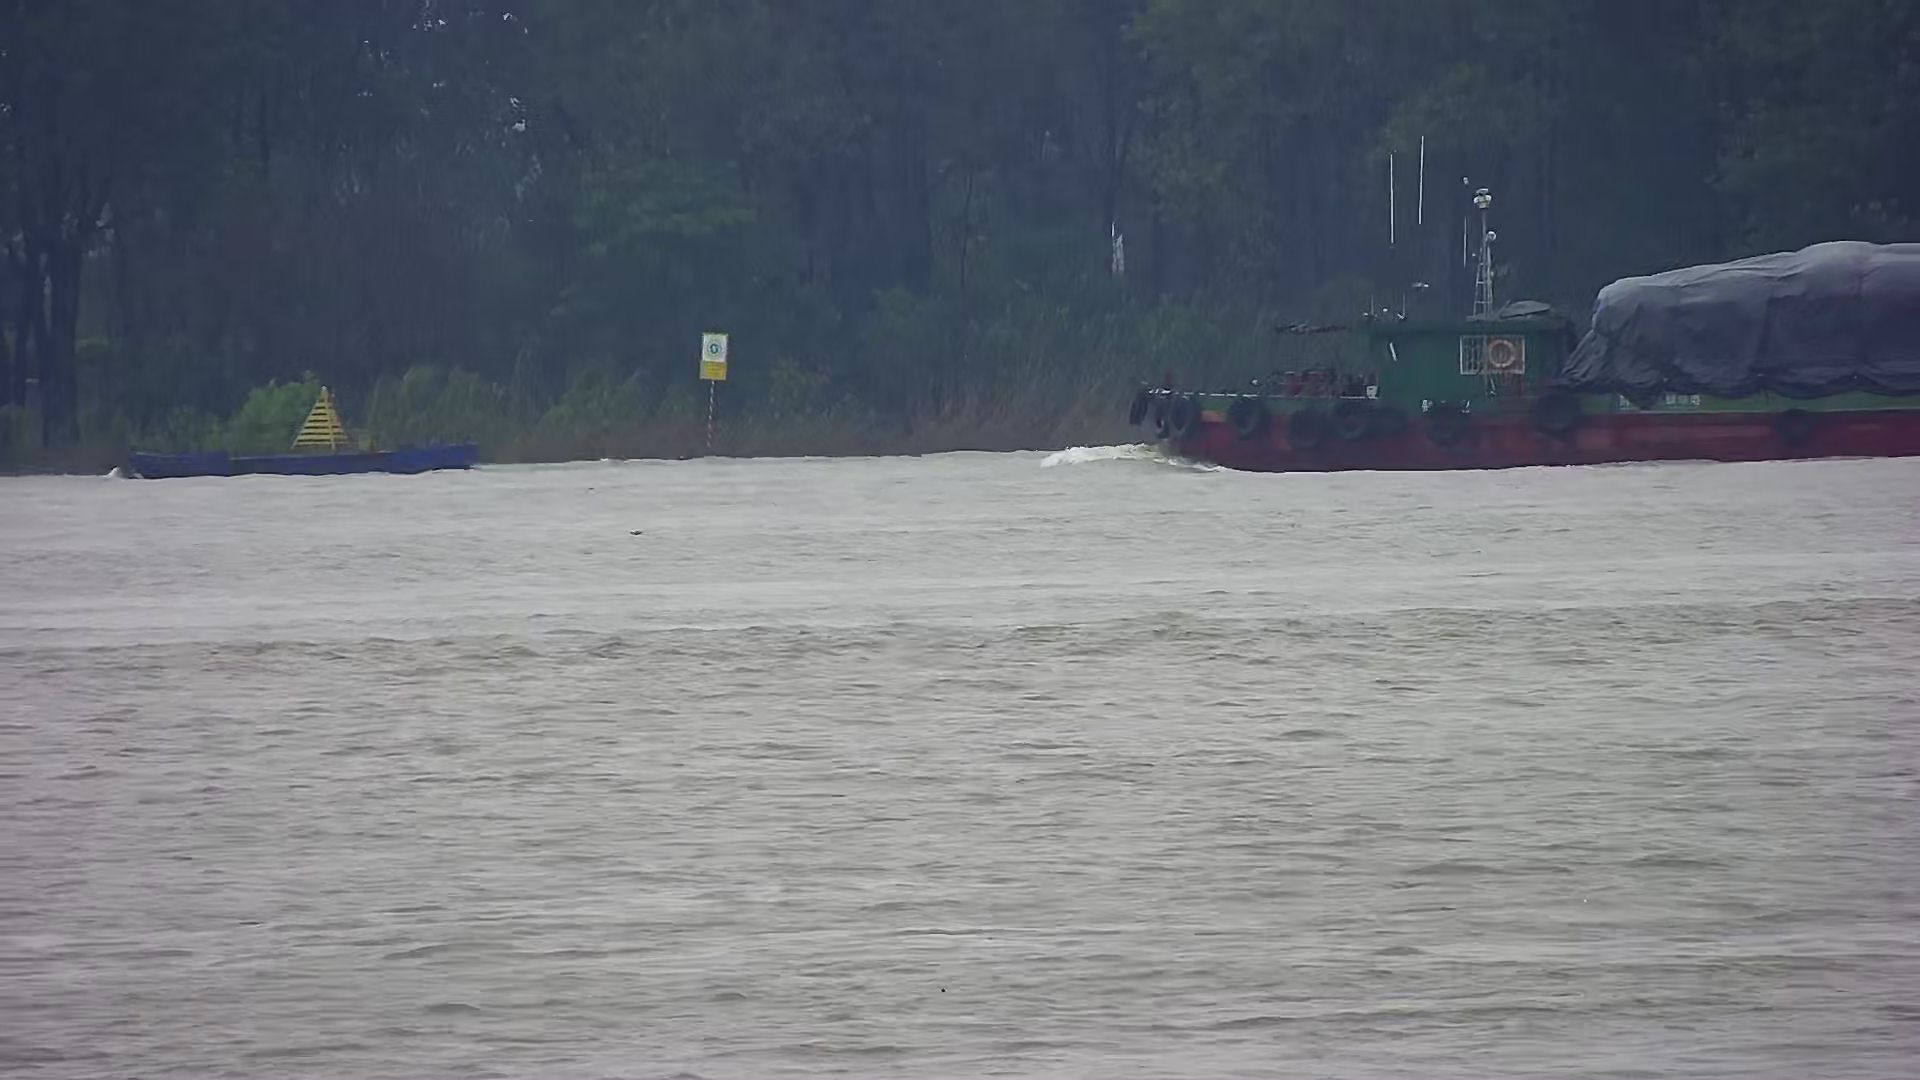boat: (131, 386, 481, 477)
mast: (702, 334, 728, 456)
ship: (1131, 186, 1920, 469)
